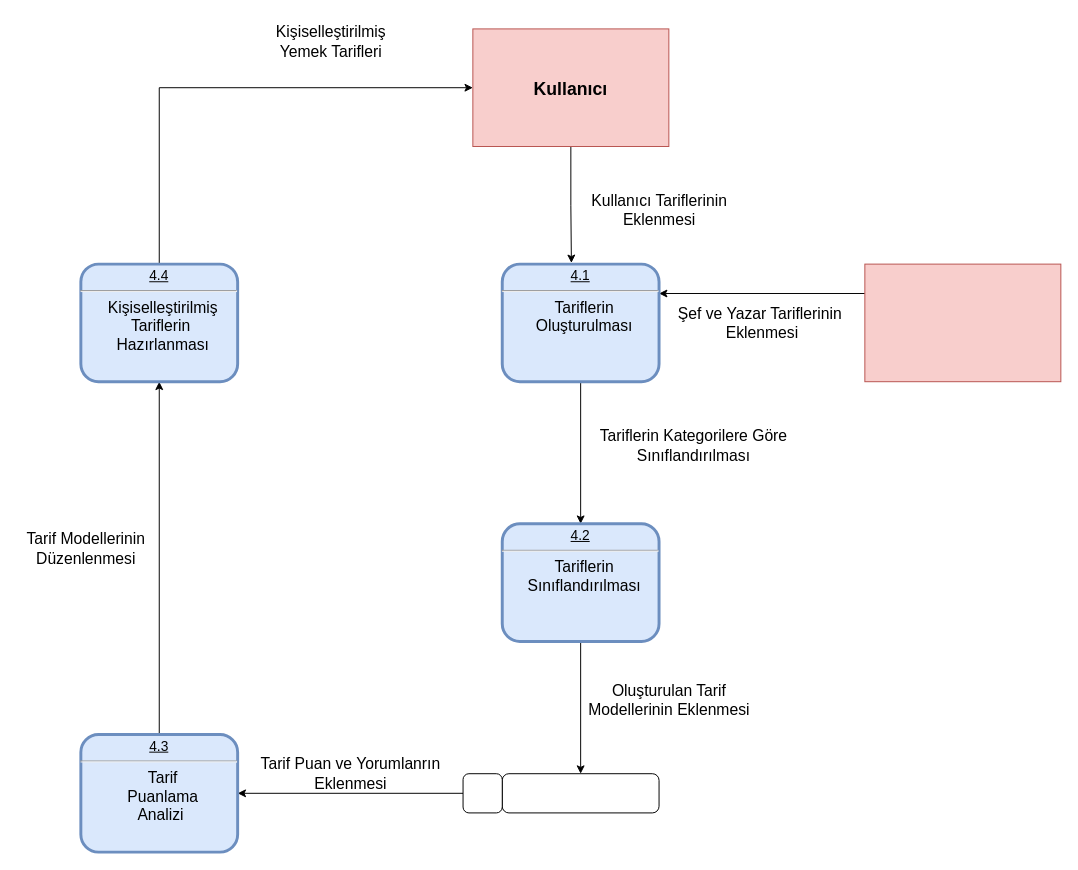
The diagram is 1078 pixels wide and 870 high, and some of its shapes have lost their labels. Each missing label, with the centre of its shape:
"D4" goes at (482,793).
"Yemek Tarifi Veritabanı" goes at (580,793).
"Şef ve Yazarlar" goes at (962,322).
